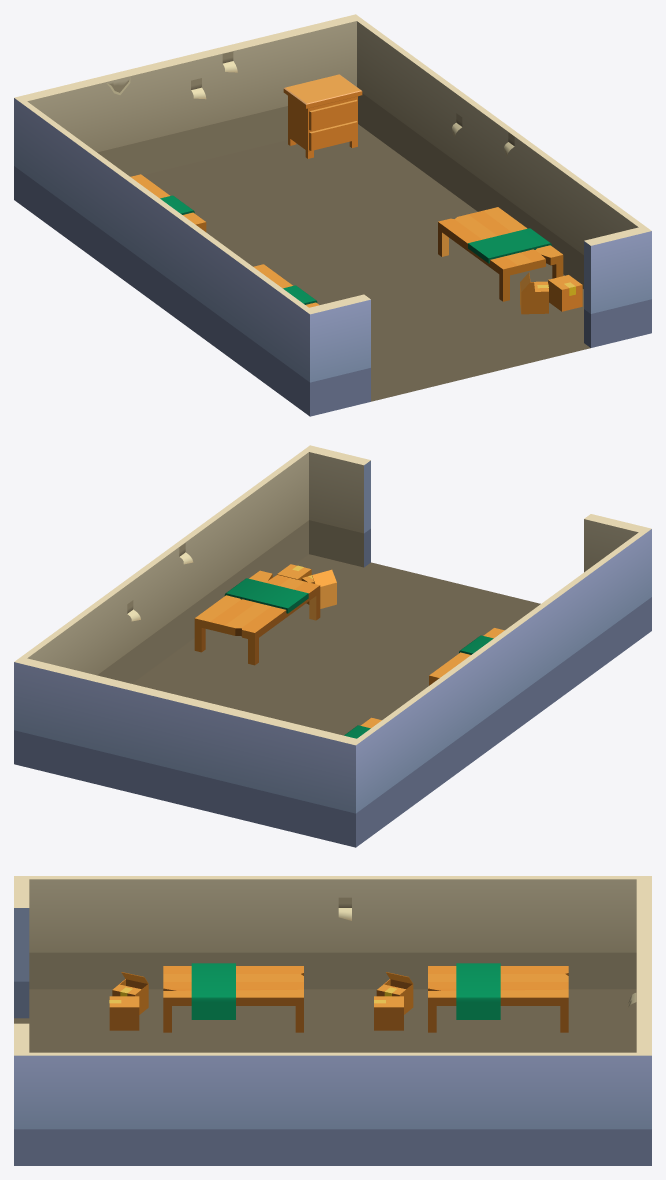
The model's file is Barrack_Lv1_a.fbx.
3 views of the same model, one above another, from view 1: azimuth 30°, elevation 25°; view 2: azimuth 150°, elevation 25°; view 3: azimuth 270°, elevation 25° (orthographic). The views are drawn at different scales.
Parts seen in each view (by area): view 1: floor, wall_half8, wall33, wall_half9, wall35, wall34, Bed_3, Small_Cabinet, Box3, decor, Bed_1, Bed_2; view 2: wall33, floor, wall_half8, wall_half9, wall34, Bed_3, wall35, Box3, Bed_2; view 3: wall_half9, wall_half8, floor, Bed_1, Bed_2, wall33, wall35, Box2, Box1, wall34.
Boxes of the visible parts, x1,y1,x2,y2 form: floor: (143,124,590,401); wall_half8: (14,97,308,410); wall33: (14,14,361,202); wall_half9: (350,15,646,288); wall35: (303,294,370,416); wall34: (584,227,651,347); Bed_3: (438,207,563,301); Small_Cabinet: (283,74,362,158); Box3: (520,272,582,314); decor: (106,51,514,155); Bed_1: (130,174,206,231); Bed_2: (253,264,319,307); wall33: (20,658,362,845); floor: (132,554,540,735); wall_half8: (349,530,646,847); wall_half9: (14,448,311,765); wall34: (306,445,370,567); Bed_3: (194,570,320,665); wall35: (584,514,651,635); Box3: (277,564,336,608); Bed_2: (429,628,504,685); wall_half9: (23,1052,651,1165); wall_half8: (23,876,651,989); floor: (14,989,636,1052); Bed_1: (428,963,568,1032); Bed_2: (163,963,303,1032); wall33: (636,876,651,1165); wall35: (14,876,29,1018); Box2: (109,972,148,1030); Box1: (374,972,413,1030); wall34: (14,1023,29,1165).
Bounding box in the file's own units: 700 × 201 × 1050.
